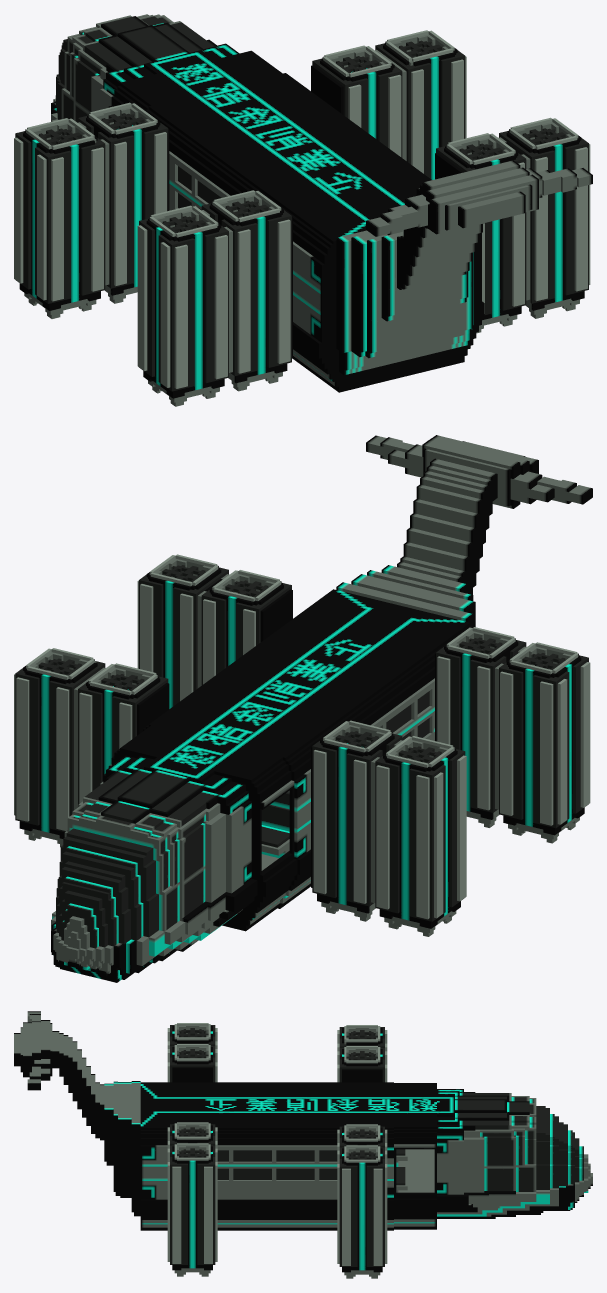
Rendered from Colortest1-8-Helo.fbx.
3 renders of one model, top to bottom at view 1: azimuth 30°, elevation 25°; view 2: azimuth 150°, elevation 25°; view 3: azimuth 270°, elevation 25°, orthographic. The views are drawn at different scales.
Visible parts, largest first — view 1: Character; view 2: Character; view 3: Character.
Boxes of the visible parts, x1,y1,x2,y2 form: Character: (14,14,592,406); Character: (14,435,592,982); Character: (14,1011,592,1278).
Size of the model in its own units: 148 by 86 by 256.
